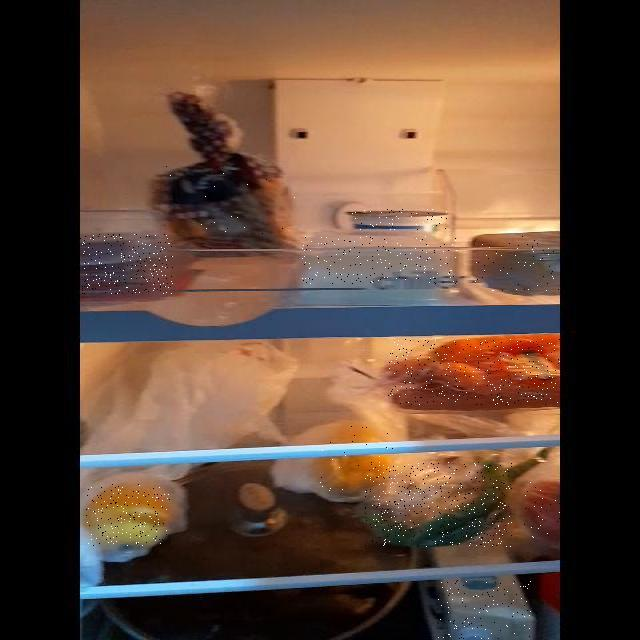bread: (160, 166, 299, 249)
butter: (473, 234, 560, 293)
carrot: (388, 339, 560, 405)
cheese: (300, 236, 457, 284)
green chilies: (365, 462, 512, 547)
lemon: (314, 426, 394, 492), (86, 484, 170, 546)
milk: (437, 580, 532, 639)
salami: (80, 234, 173, 294)
tomato: (523, 480, 560, 538)
yoghurt: (349, 209, 448, 230)
